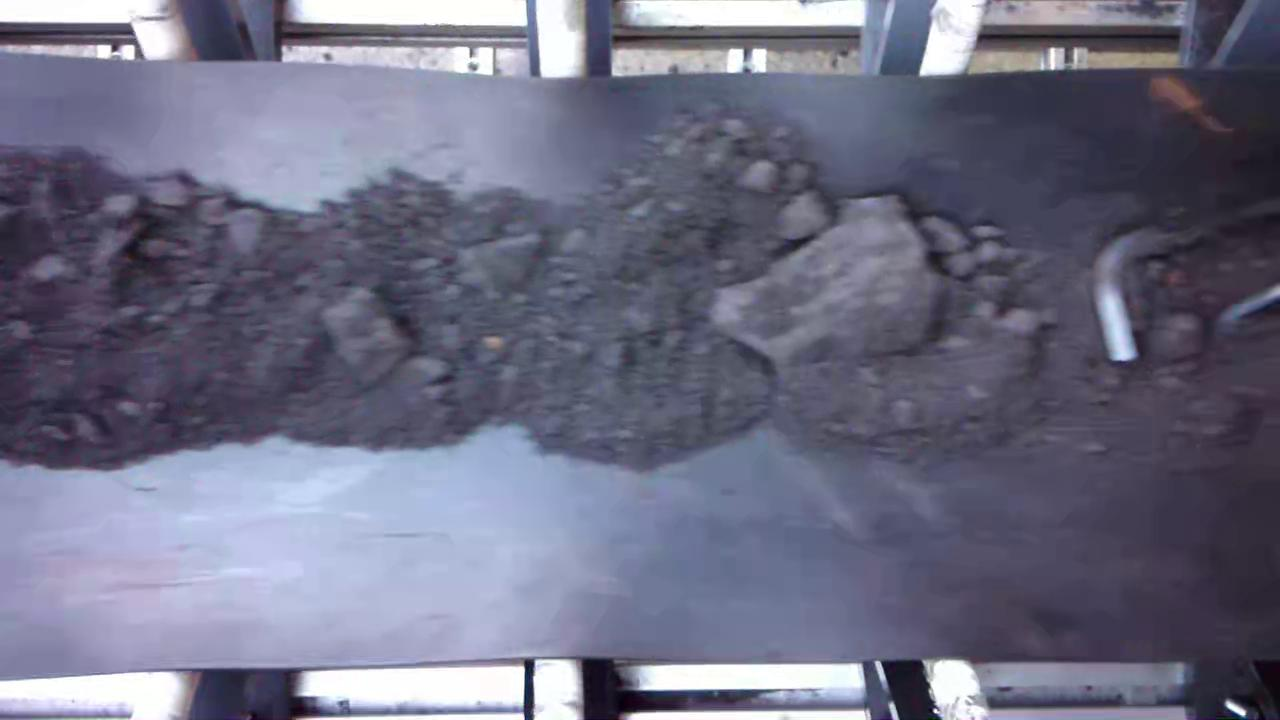conveyor: (1, 80, 1276, 652)
